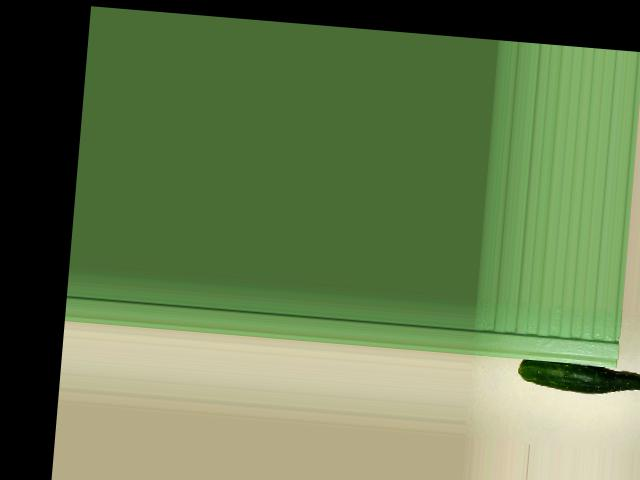cucumber: (516, 358, 640, 406)
